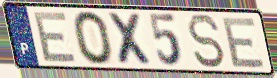5: (148, 12, 186, 69)
E: (32, 10, 79, 64), (221, 16, 267, 69)
O: (71, 10, 116, 67)
S: (185, 13, 228, 71)
X: (105, 10, 157, 68)
